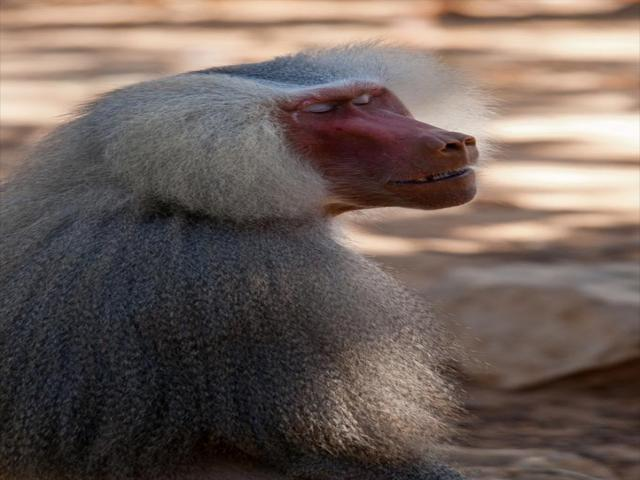monkey: (56, 34, 512, 410)
